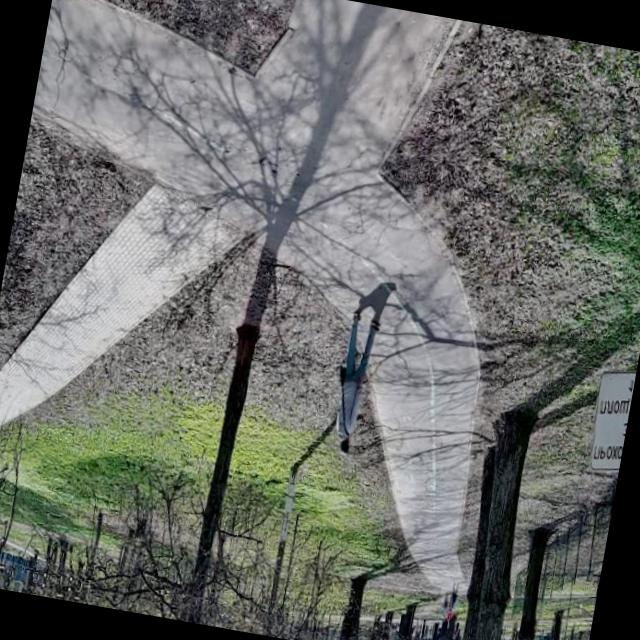person: (326, 310, 384, 459)
